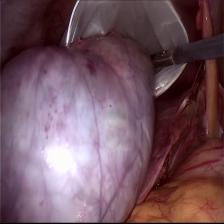Grasper: (148, 46, 182, 74)
Specimen Bag: (56, 0, 196, 103)
